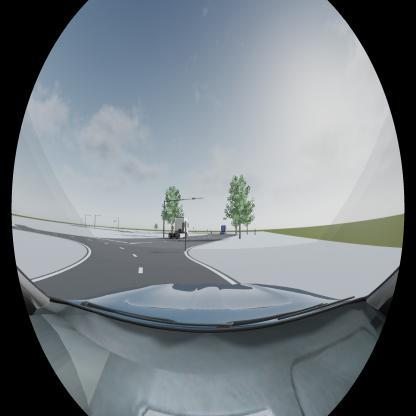Red Light: (175, 198, 179, 202), (192, 197, 196, 200)
